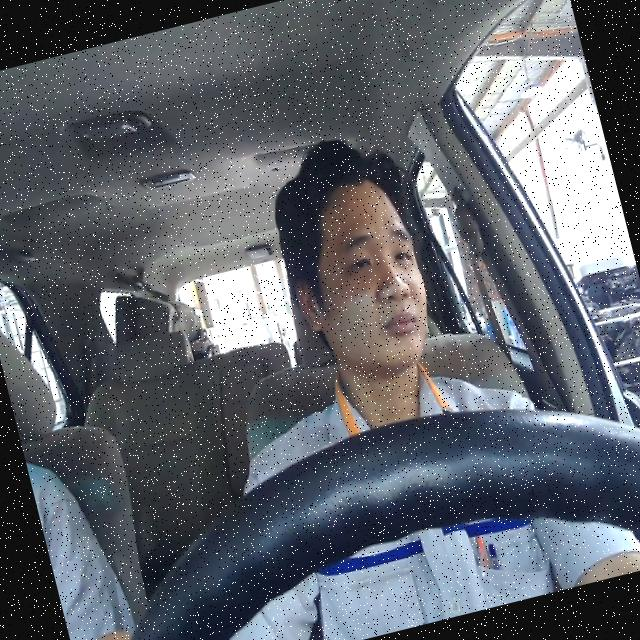seeing_right: (269, 165, 442, 390)
